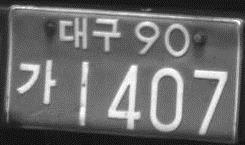0: (147, 65, 184, 132), (163, 21, 190, 58)
1: (75, 59, 91, 130)
4: (105, 62, 142, 131)
7: (191, 67, 230, 138)
9: (134, 19, 161, 56)
가: (16, 57, 57, 107)
대구_O: (56, 15, 122, 52)
